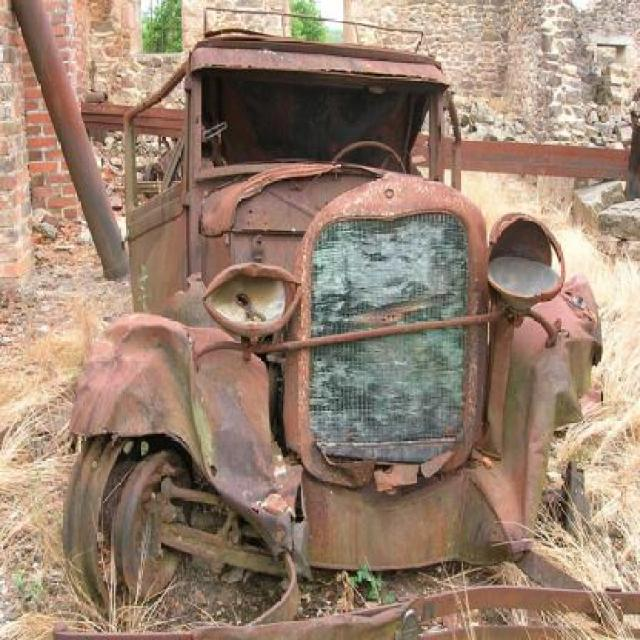corrosion: (68, 32, 610, 613)
